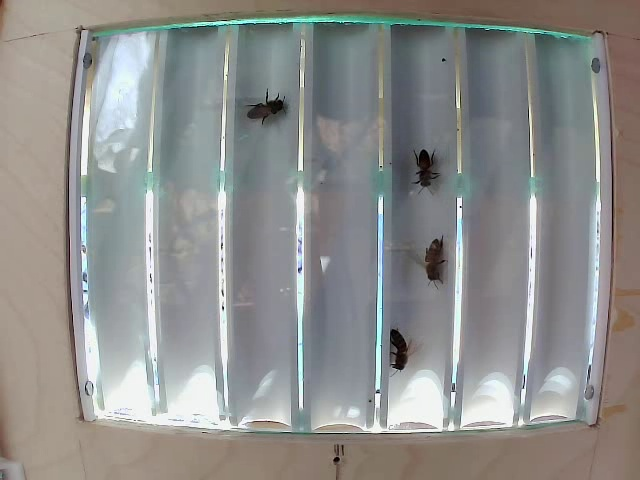bee: (379, 304, 420, 371), (414, 228, 455, 287), (241, 86, 293, 129), (410, 140, 437, 197)
